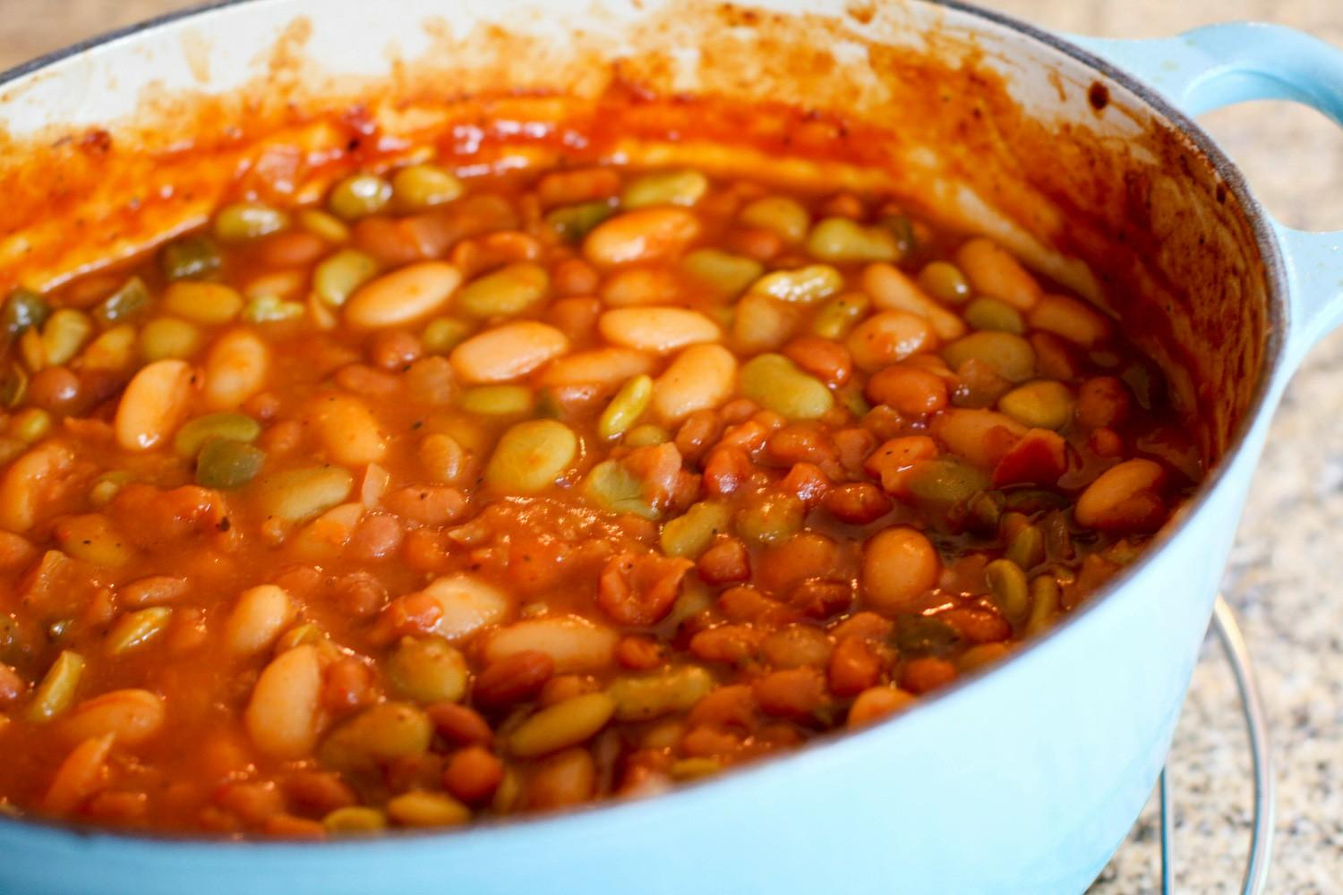RajmaCurry: (0, 143, 1189, 837)
